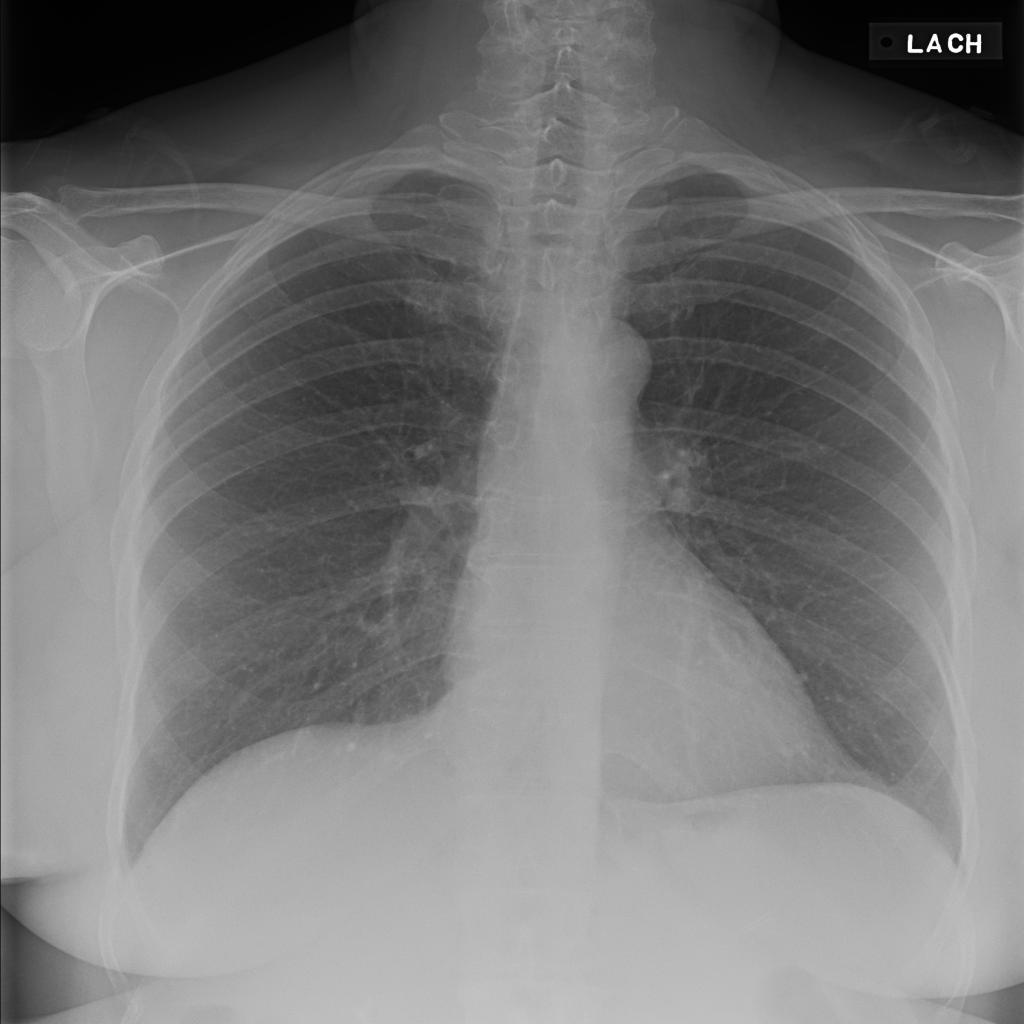Nodule: (79, 327, 114, 368)
